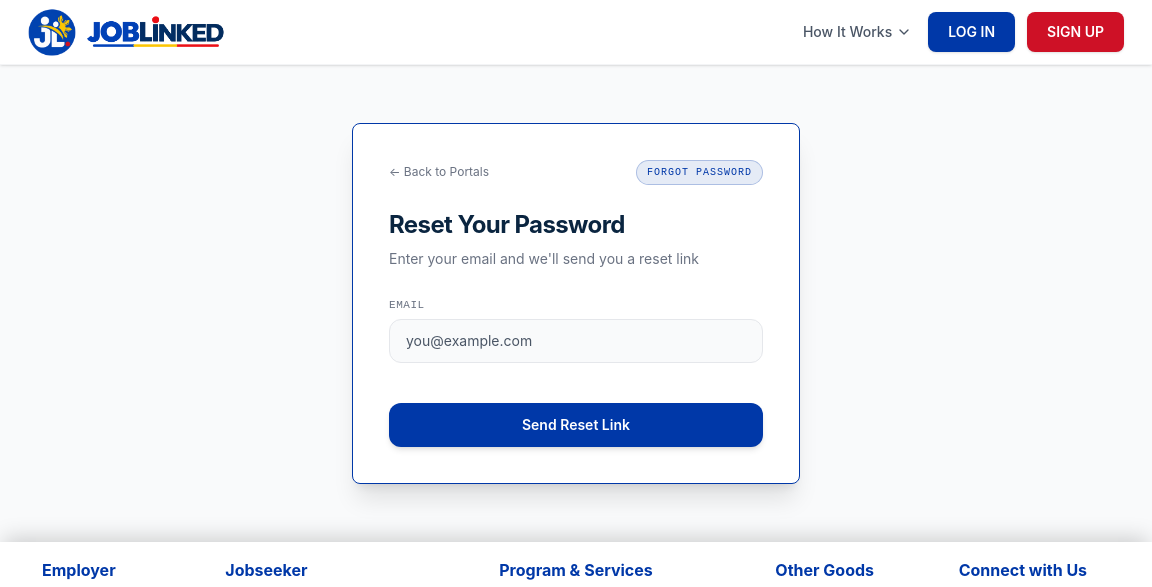
Scenario: ForgotPassword › sends the reset link and shows the success notice
In the field labelled "Email": (576, 341) [389,319,763,363], type "jane@example.com"
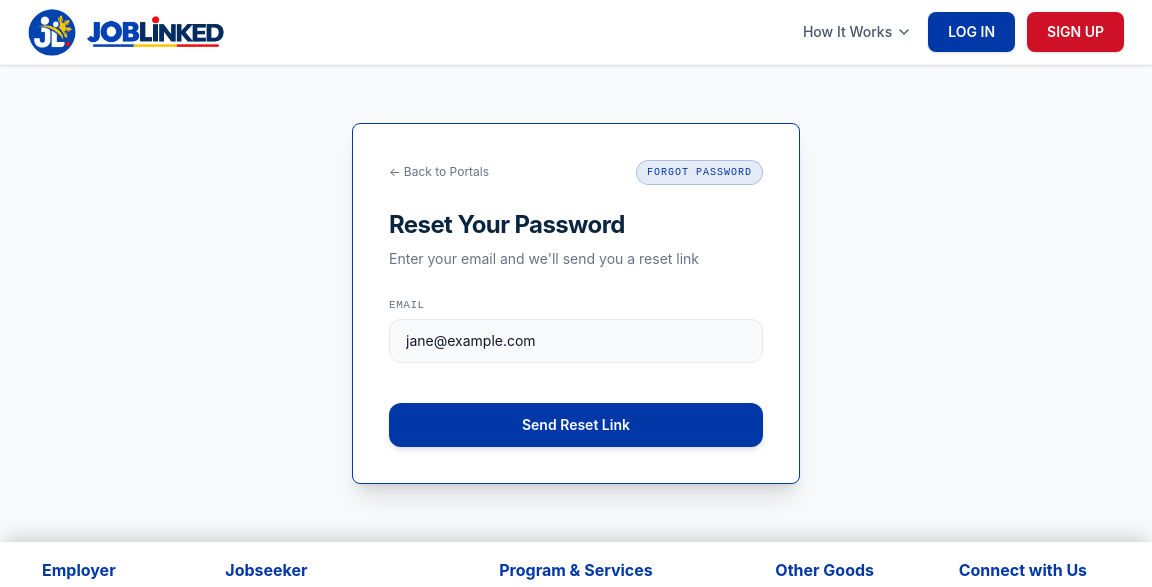
Click the button "Send Reset Link": (576, 425) [389,403,763,447]
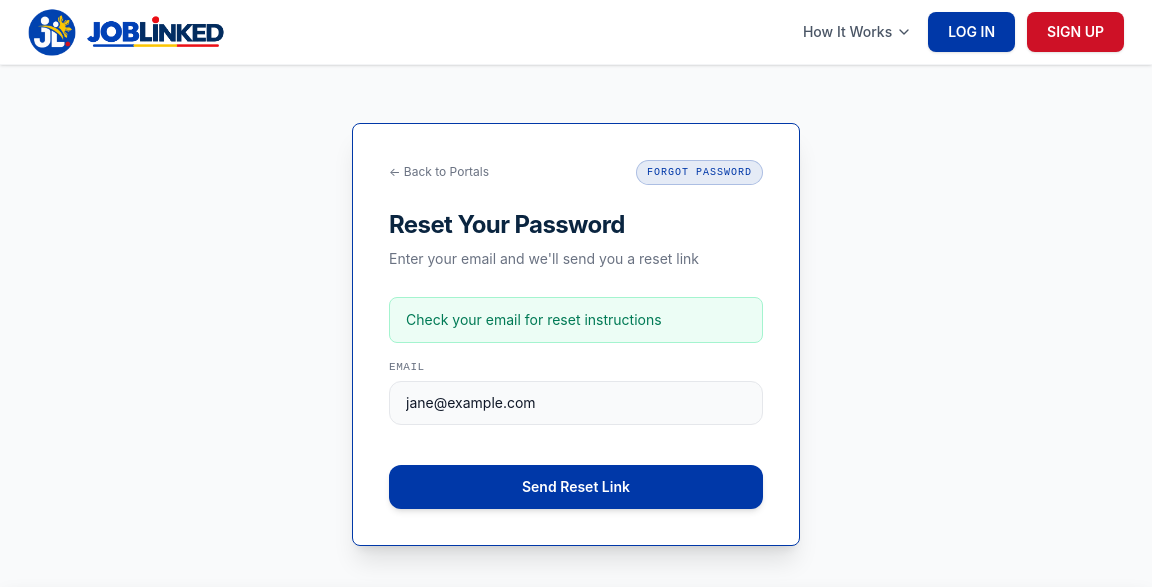
Check: the text "Check your email for reset instructions" is shown, box [389,297,763,343]
